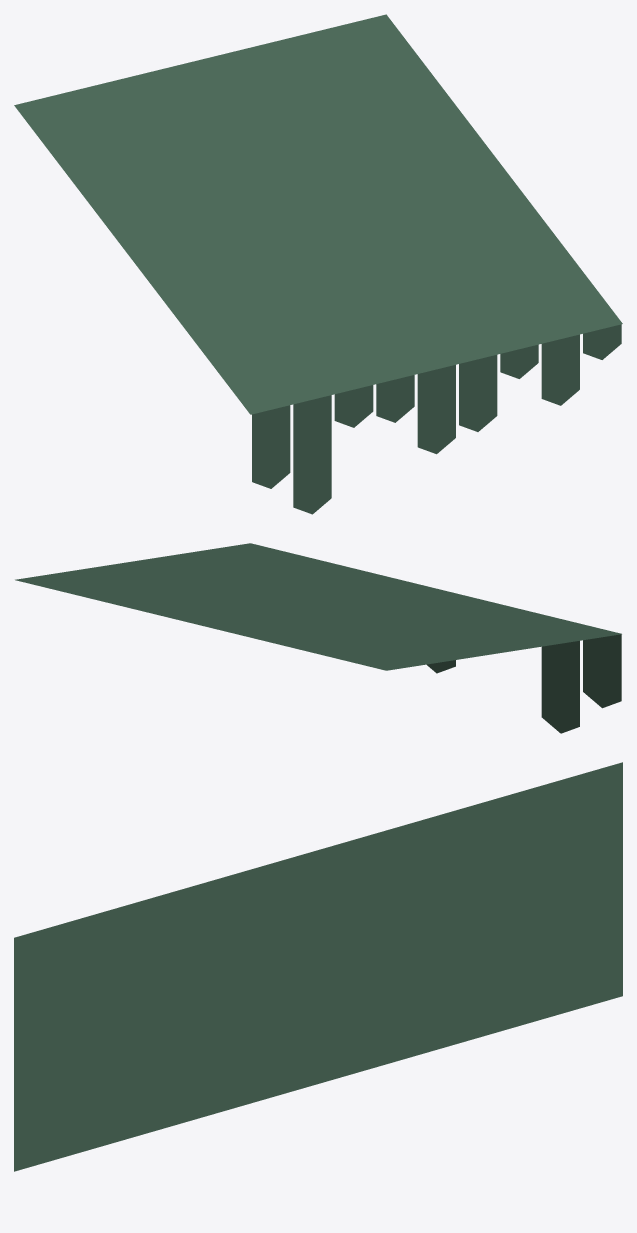
File: SM_Souq_Awning1.fbx
3 views of the same model, one above another, from view 1: azimuth 30°, elevation 25°; view 2: azimuth 150°, elevation 25°; view 3: azimuth 270°, elevation 25° (orthographic). The views are drawn at different scales.
Parts seen in each view (by area): view 1: SM_Souq_Awning1; view 2: SM_Souq_Awning1; view 3: SM_Souq_Awning1.
Part boxes in pixels (bbox=[...]): SM_Souq_Awning1: bbox=[14, 14, 622, 514]; SM_Souq_Awning1: bbox=[15, 543, 621, 733]; SM_Souq_Awning1: bbox=[14, 762, 622, 1171].
Size of the model in its own units: 100 by 64.47 by 110.
Materials: 1 (1 with a texture image).
